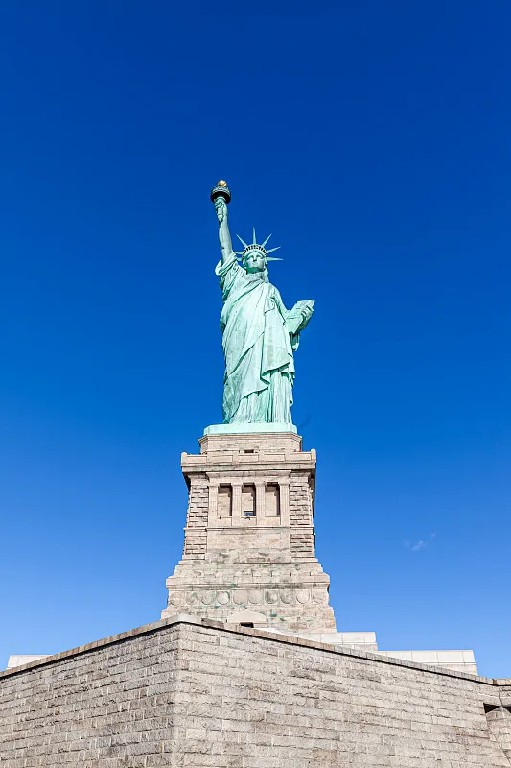SL: (161, 179, 337, 632)
